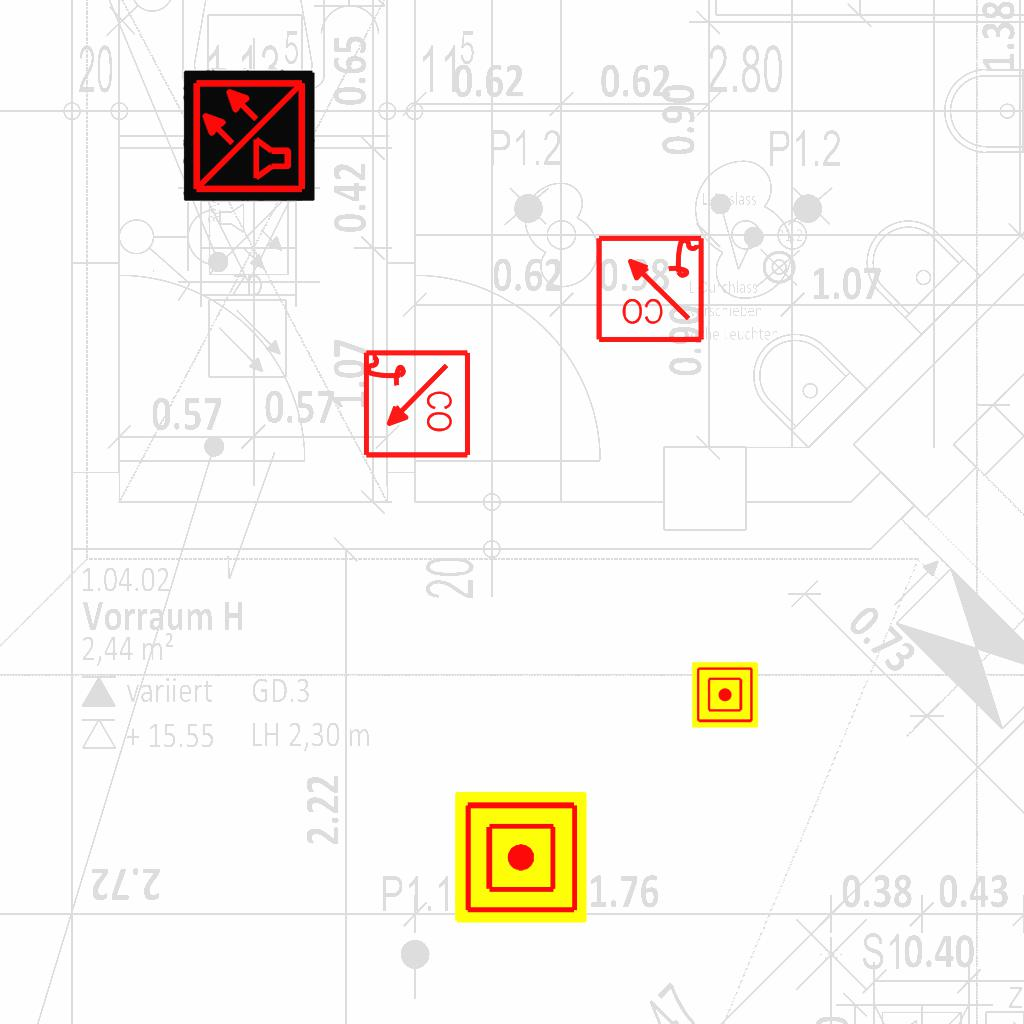NAM-Nichtautomatischer_Melder: (455, 791, 587, 923), (692, 662, 758, 728)
OKW_Multisensormelder_(Kombination_optischer_Rauch-Kahlenmonoxid_Waerme-Melder): (183, 69, 315, 201)
ROA_Rauchmelder_optisch_mit_Signalgeber_(Sockelsirene): (593, 231, 706, 344), (359, 348, 472, 461)
